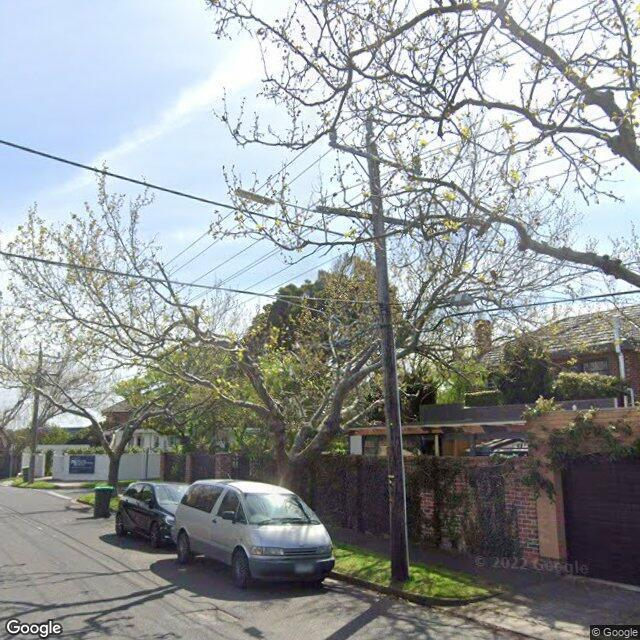HV-transmission: (330, 112, 421, 169)
crossarm: (329, 141, 421, 176), (317, 206, 422, 228)
streetlight: (234, 188, 318, 214)
timber-pole: (366, 140, 410, 580)
